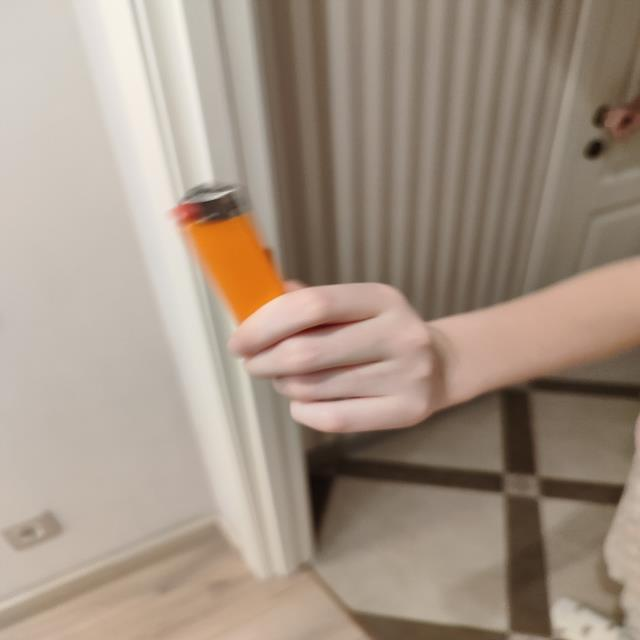lighter: (174, 186, 286, 322)
